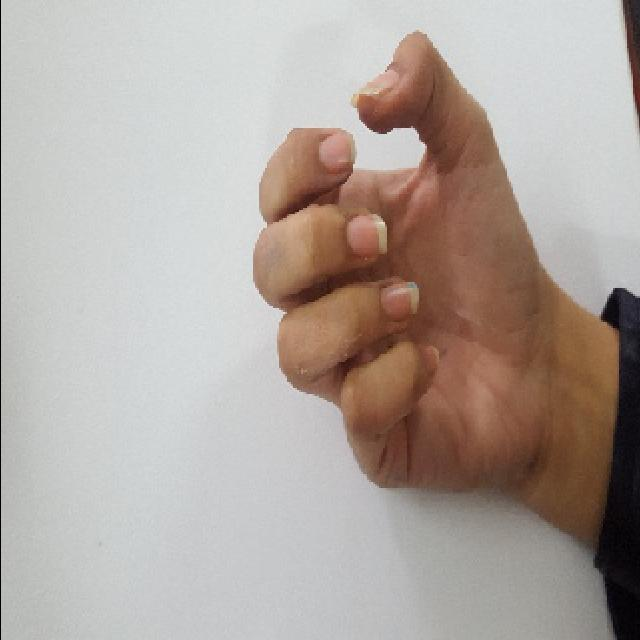Nail: (351, 69, 398, 108), (345, 214, 386, 257), (318, 130, 355, 175), (380, 281, 419, 321), (420, 346, 438, 372)
